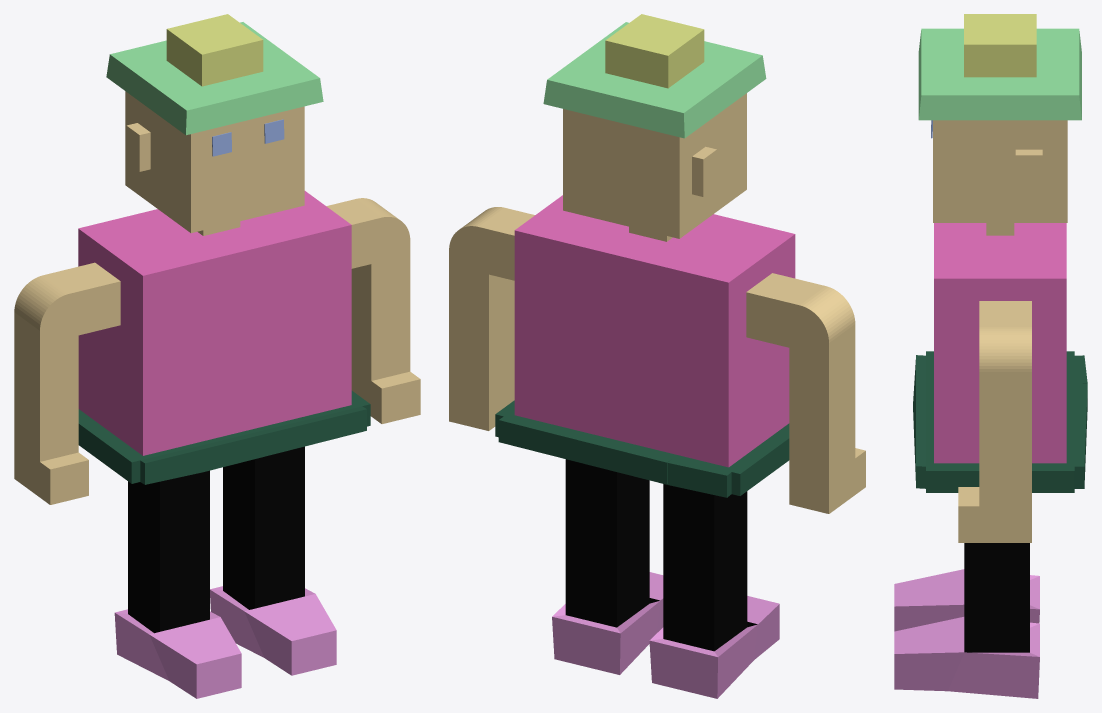
File: User1.glb
3 renders of one model, left to right at view 1: azimuth 30°, elevation 25°; view 2: azimuth 150°, elevation 25°; view 3: azimuth 270°, elevation 25°, orthographic. The views are drawn at different scales.
Parts seen in each view (by area): view 1: body.001, arms.001, legs.001, head.001, feet.001, hat.001, hat top.001, eyes.001; view 2: body.001, arms.001, legs.001, head.001, feet.001, hat.001, hat top.001; view 3: body.001, head.001, arms.001, feet.001, hat.001, legs.001, hat top.001.
Boxes of the visible parts, x1,y1,x2,y2 form: body.001: (78, 191, 370, 484); arms.001: (14, 198, 420, 504); legs.001: (128, 446, 304, 633); head.001: (125, 91, 304, 235); feet.001: (114, 586, 336, 698); hat.001: (106, 22, 323, 135); hat top.001: (166, 14, 263, 86); eyes.001: (212, 119, 284, 156); body.001: (495, 195, 795, 497); arms.001: (449, 207, 865, 513); legs.001: (565, 459, 757, 651); head.001: (563, 93, 746, 241); feet.001: (552, 572, 779, 698); hat.001: (543, 22, 766, 138); hat top.001: (605, 14, 704, 88); body.001: (913, 223, 1087, 492); head.001: (933, 120, 1067, 235); arms.001: (958, 301, 1031, 542); feet.001: (894, 569, 1039, 698); hat.001: (918, 28, 1081, 120); legs.001: (964, 543, 1029, 652); hat top.001: (964, 14, 1036, 77).
Size of the model in its own units: 0.8 by 1.27 by 0.3529.
